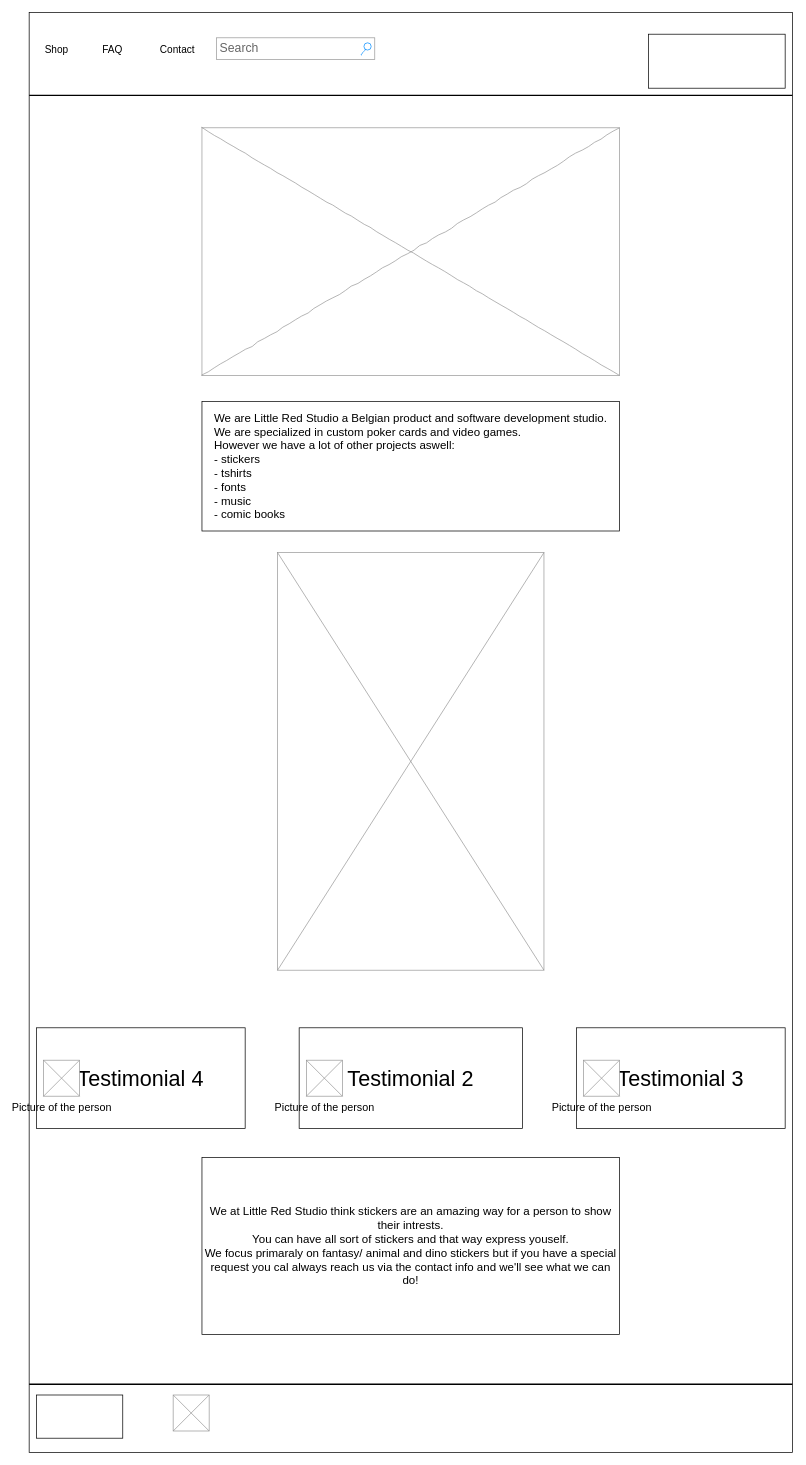
The diagram is 806 pixels wide and 1465 high, and some of its shapes have lost their labels. Here are the shapes that lost their labels. From the top down, the centre of each, then its label:
point 716,60: Logo/Home Button
point 410,251: Here comes the logo
point 410,761: Carousel of sticker designs
point 79,1416: Legal info Return policy Contact
point 190,1412: Instagram/other social media links
